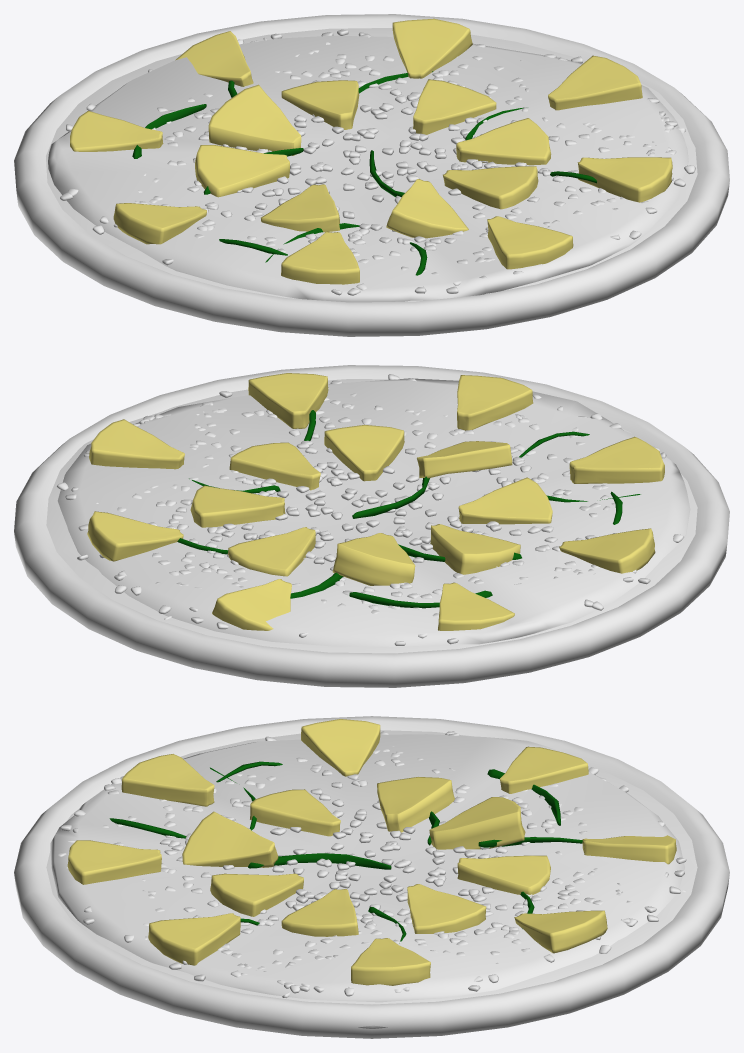
Rendered from hawaian_pizza.fbx.
The picture shows the model from 3 angles, top to bottom: view 1: azimuth 30°, elevation 25°; view 2: azimuth 150°, elevation 25°; view 3: azimuth 270°, elevation 25°; orthographic projection.
Parts seen in each view (by area): view 1: pizzacheese.004, Pineapple.001, pizzadow_burn_low.004, corn.004, pizzasource.004, pepper.002; view 2: pizzacheese.004, Pineapple.001, pizzadow_burn_low.004, corn.004, pizzasource.004, pepper.002; view 3: pizzacheese.004, Pineapple.001, pizzadow_burn_low.004, corn.004, pizzasource.004, pepper.002.
Boxes of the visible parts, x1,y1,x2,y2 form: pizzacheese.004: (48,35,688,302); Pineapple.001: (70,18,672,284); pizzadow_burn_low.004: (14,14,729,336); corn.004: (60,29,695,295); pizzasource.004: (46,28,697,301); pepper.002: (132,71,596,275); pizzacheese.004: (57,378,690,646); Pineapple.001: (87,373,664,630); pizzadow_burn_low.004: (14,365,729,687); corn.004: (57,374,683,645); pizzasource.004: (46,379,697,653); pepper.002: (177,410,640,608); pizzacheese.004: (50,734,684,1002); Pineapple.001: (67,719,676,985); pizzadow_burn_low.004: (14,716,729,1038); corn.004: (58,731,686,997); pizzasource.004: (46,730,697,1028); pepper.002: (109,761,582,943).
Bounding box in the file's own units: 23.85 × 2.48 × 23.79.
